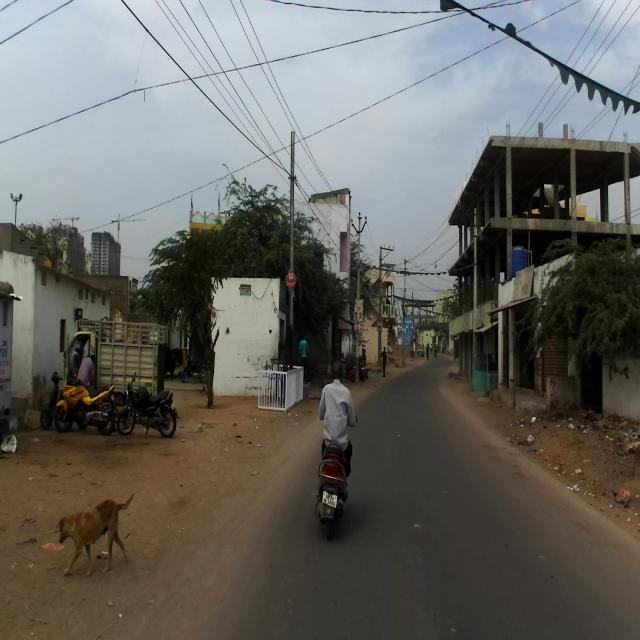Dog ahead at: (58, 494, 133, 574)
motorcycle ahead at: (313, 443, 358, 536), (120, 372, 180, 440)
